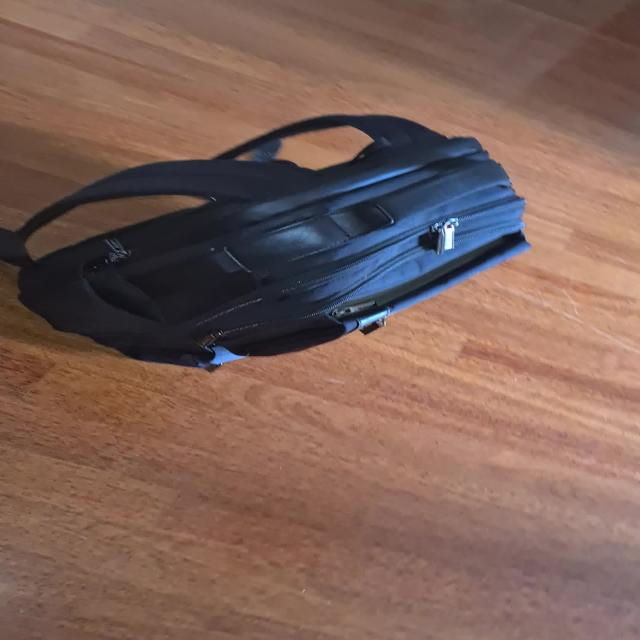backpack: (2, 101, 544, 367)
